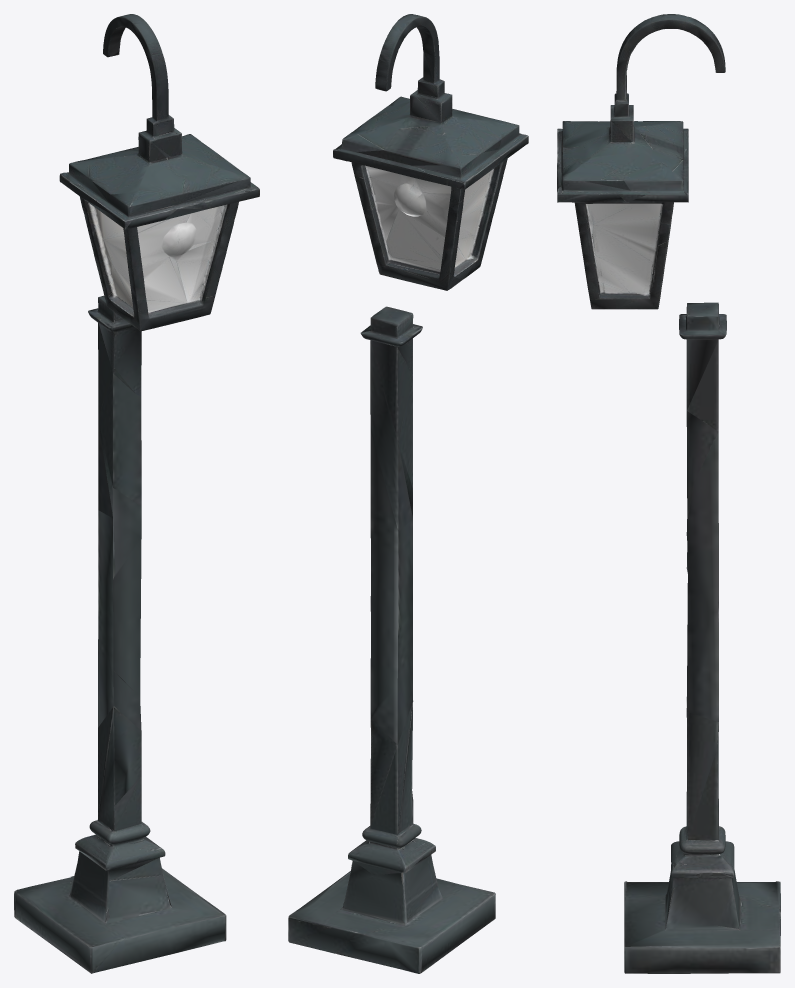
Rendered from prop_streetlight_01.glb.
The picture shows the model from 3 angles, left to right: view 1: azimuth 30°, elevation 25°; view 2: azimuth 150°, elevation 25°; view 3: azimuth 270°, elevation 25°; orthographic projection. The views are drawn at different scales.
Parts seen in each view (by area): view 1: output_unwrapped; view 2: output_unwrapped; view 3: output_unwrapped.
Boxes of the visible parts, x1,y1,x2,y2 form: output_unwrapped: (14,14,259,973); output_unwrapped: (288,14,528,973); output_unwrapped: (557,14,780,973).
Size of the model in its own units: 0.2919 by 1.9 by 0.4166.
Materials: 1 (1 with a texture image).
